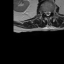CCS_normal: (46, 9, 48, 17)
LFS_severe_stenosis: (50, 9, 52, 14)
LLS_normal: (48, 10, 50, 16)
RFS_stenosis: (42, 10, 45, 15)
RLS_normal: (45, 10, 46, 15)
